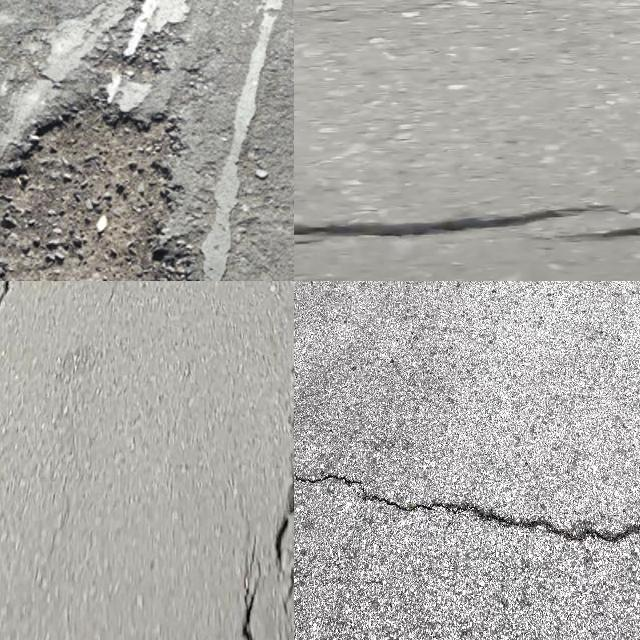Lubang: (0, 106, 191, 281)
Melintang: (294, 448, 640, 551), (294, 192, 640, 259)
Memanjang: (228, 281, 294, 640)
